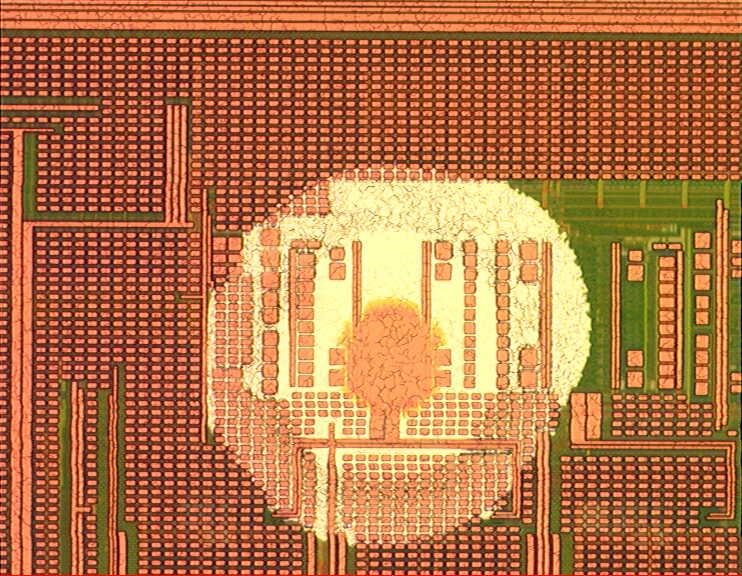BLOCK ETCH: (194, 162, 591, 550)
